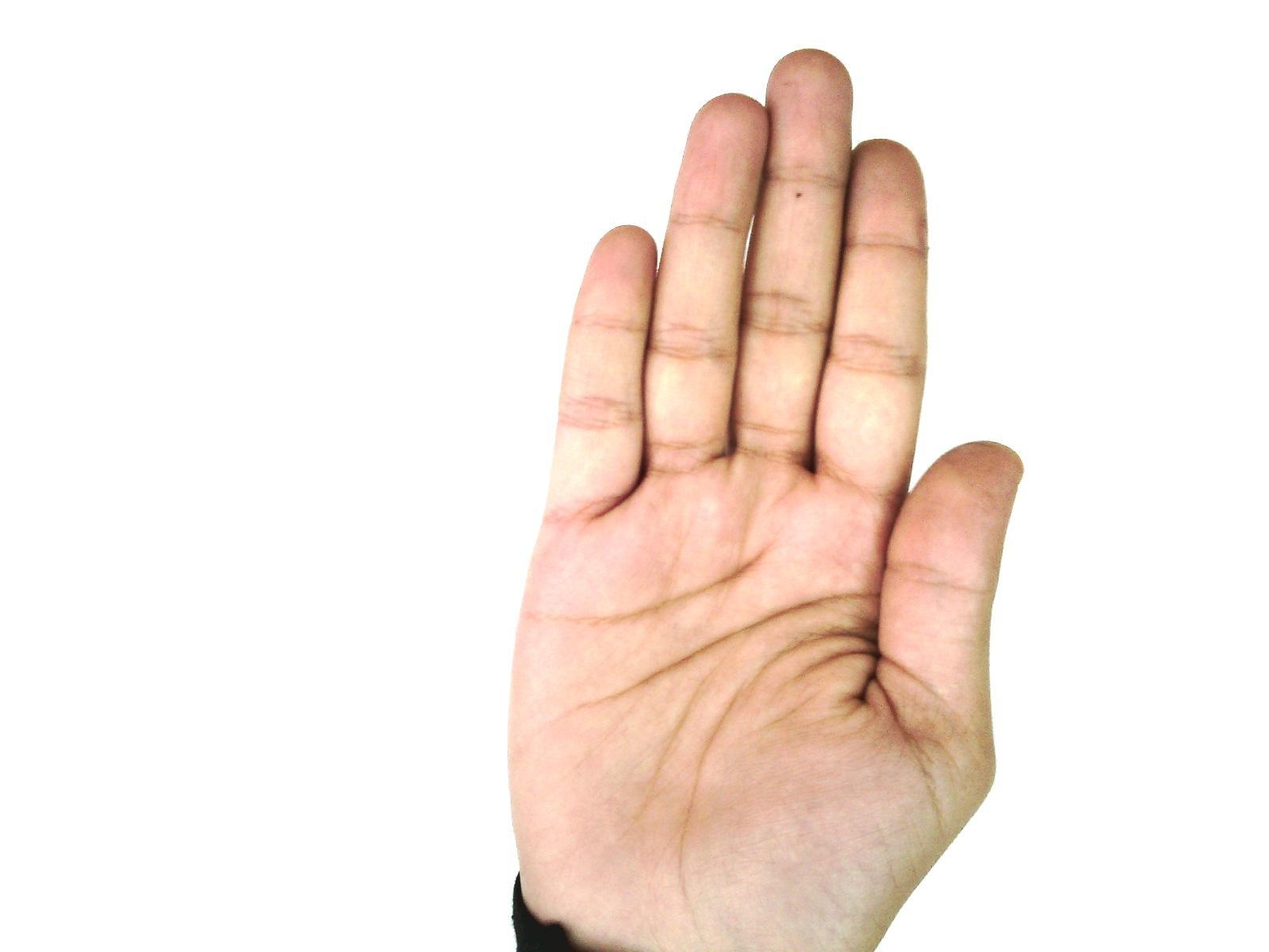open_palm: (503, 48, 1026, 951)
